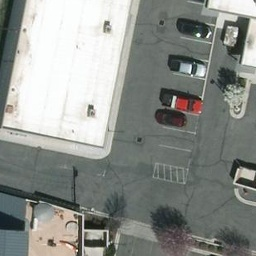car: (168, 52, 210, 80), (162, 91, 203, 113), (174, 19, 209, 39), (156, 111, 188, 124)
